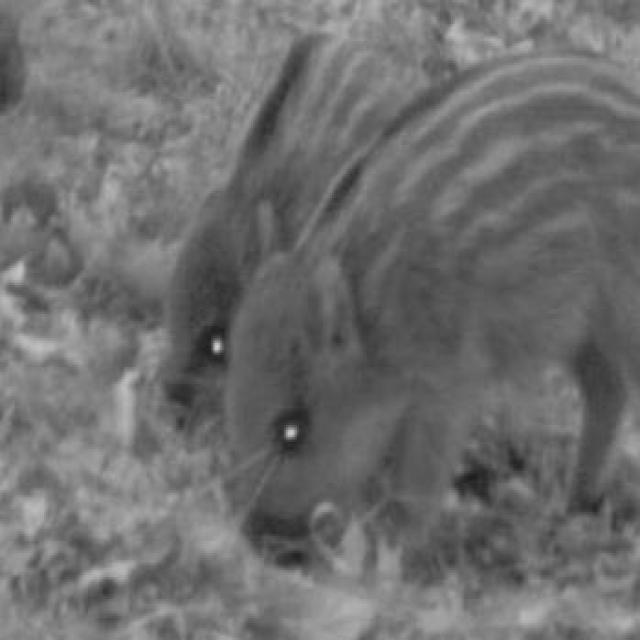pig: (217, 59, 640, 582), (151, 64, 269, 437)
